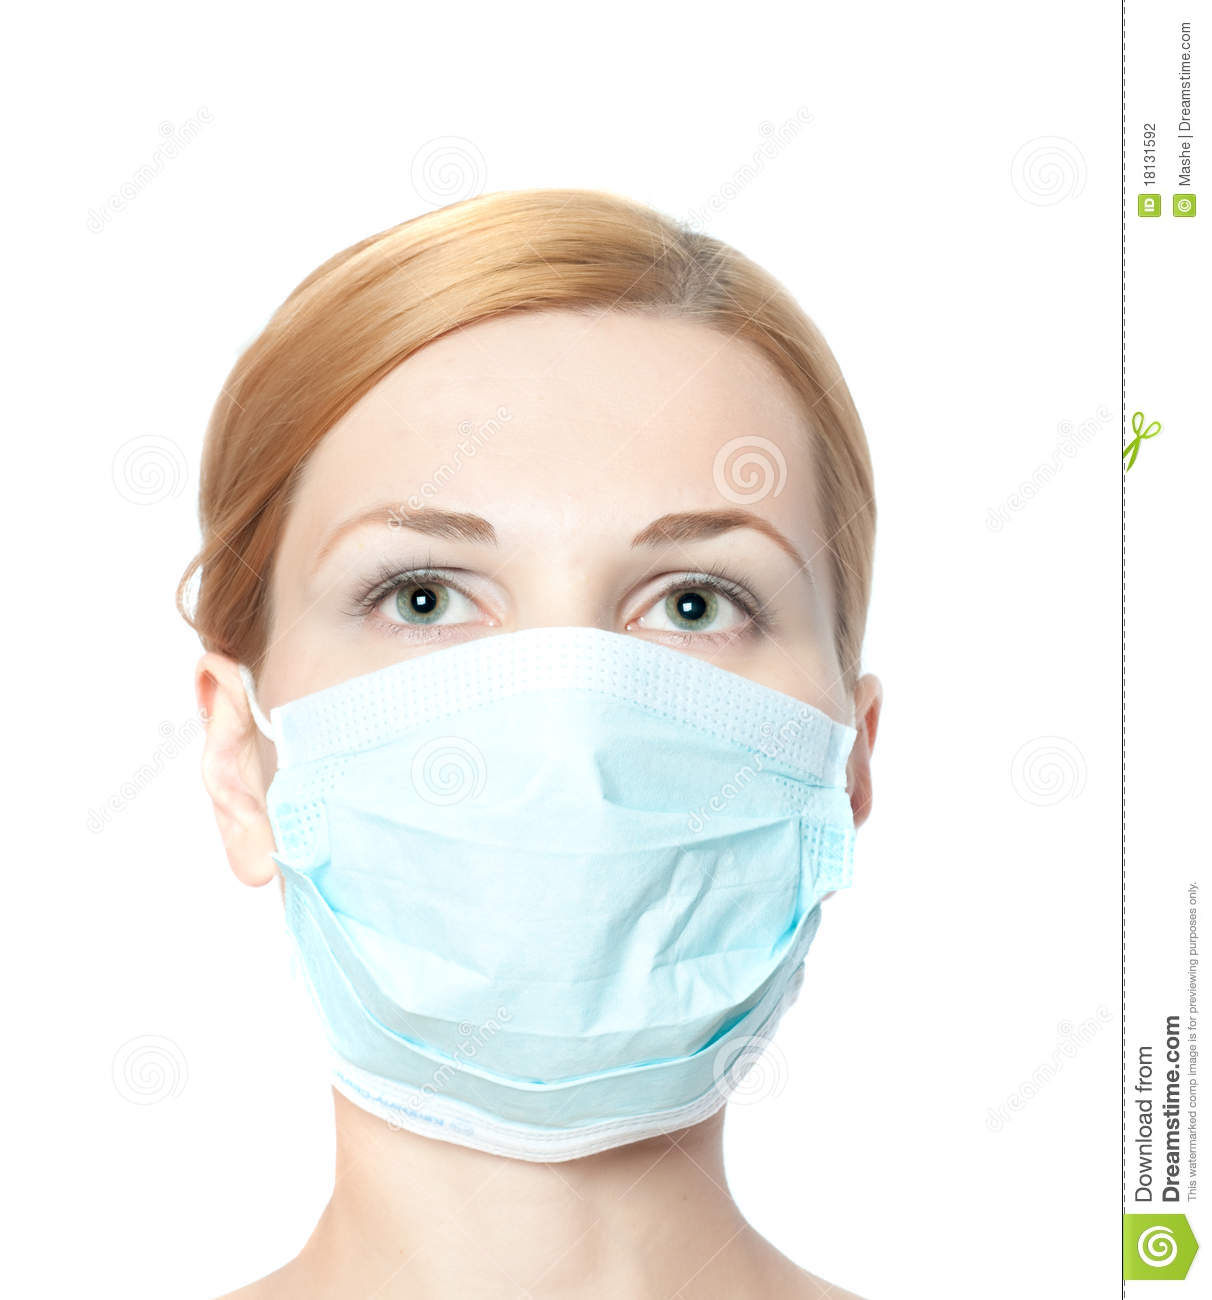mask: (241, 665, 904, 1129)
